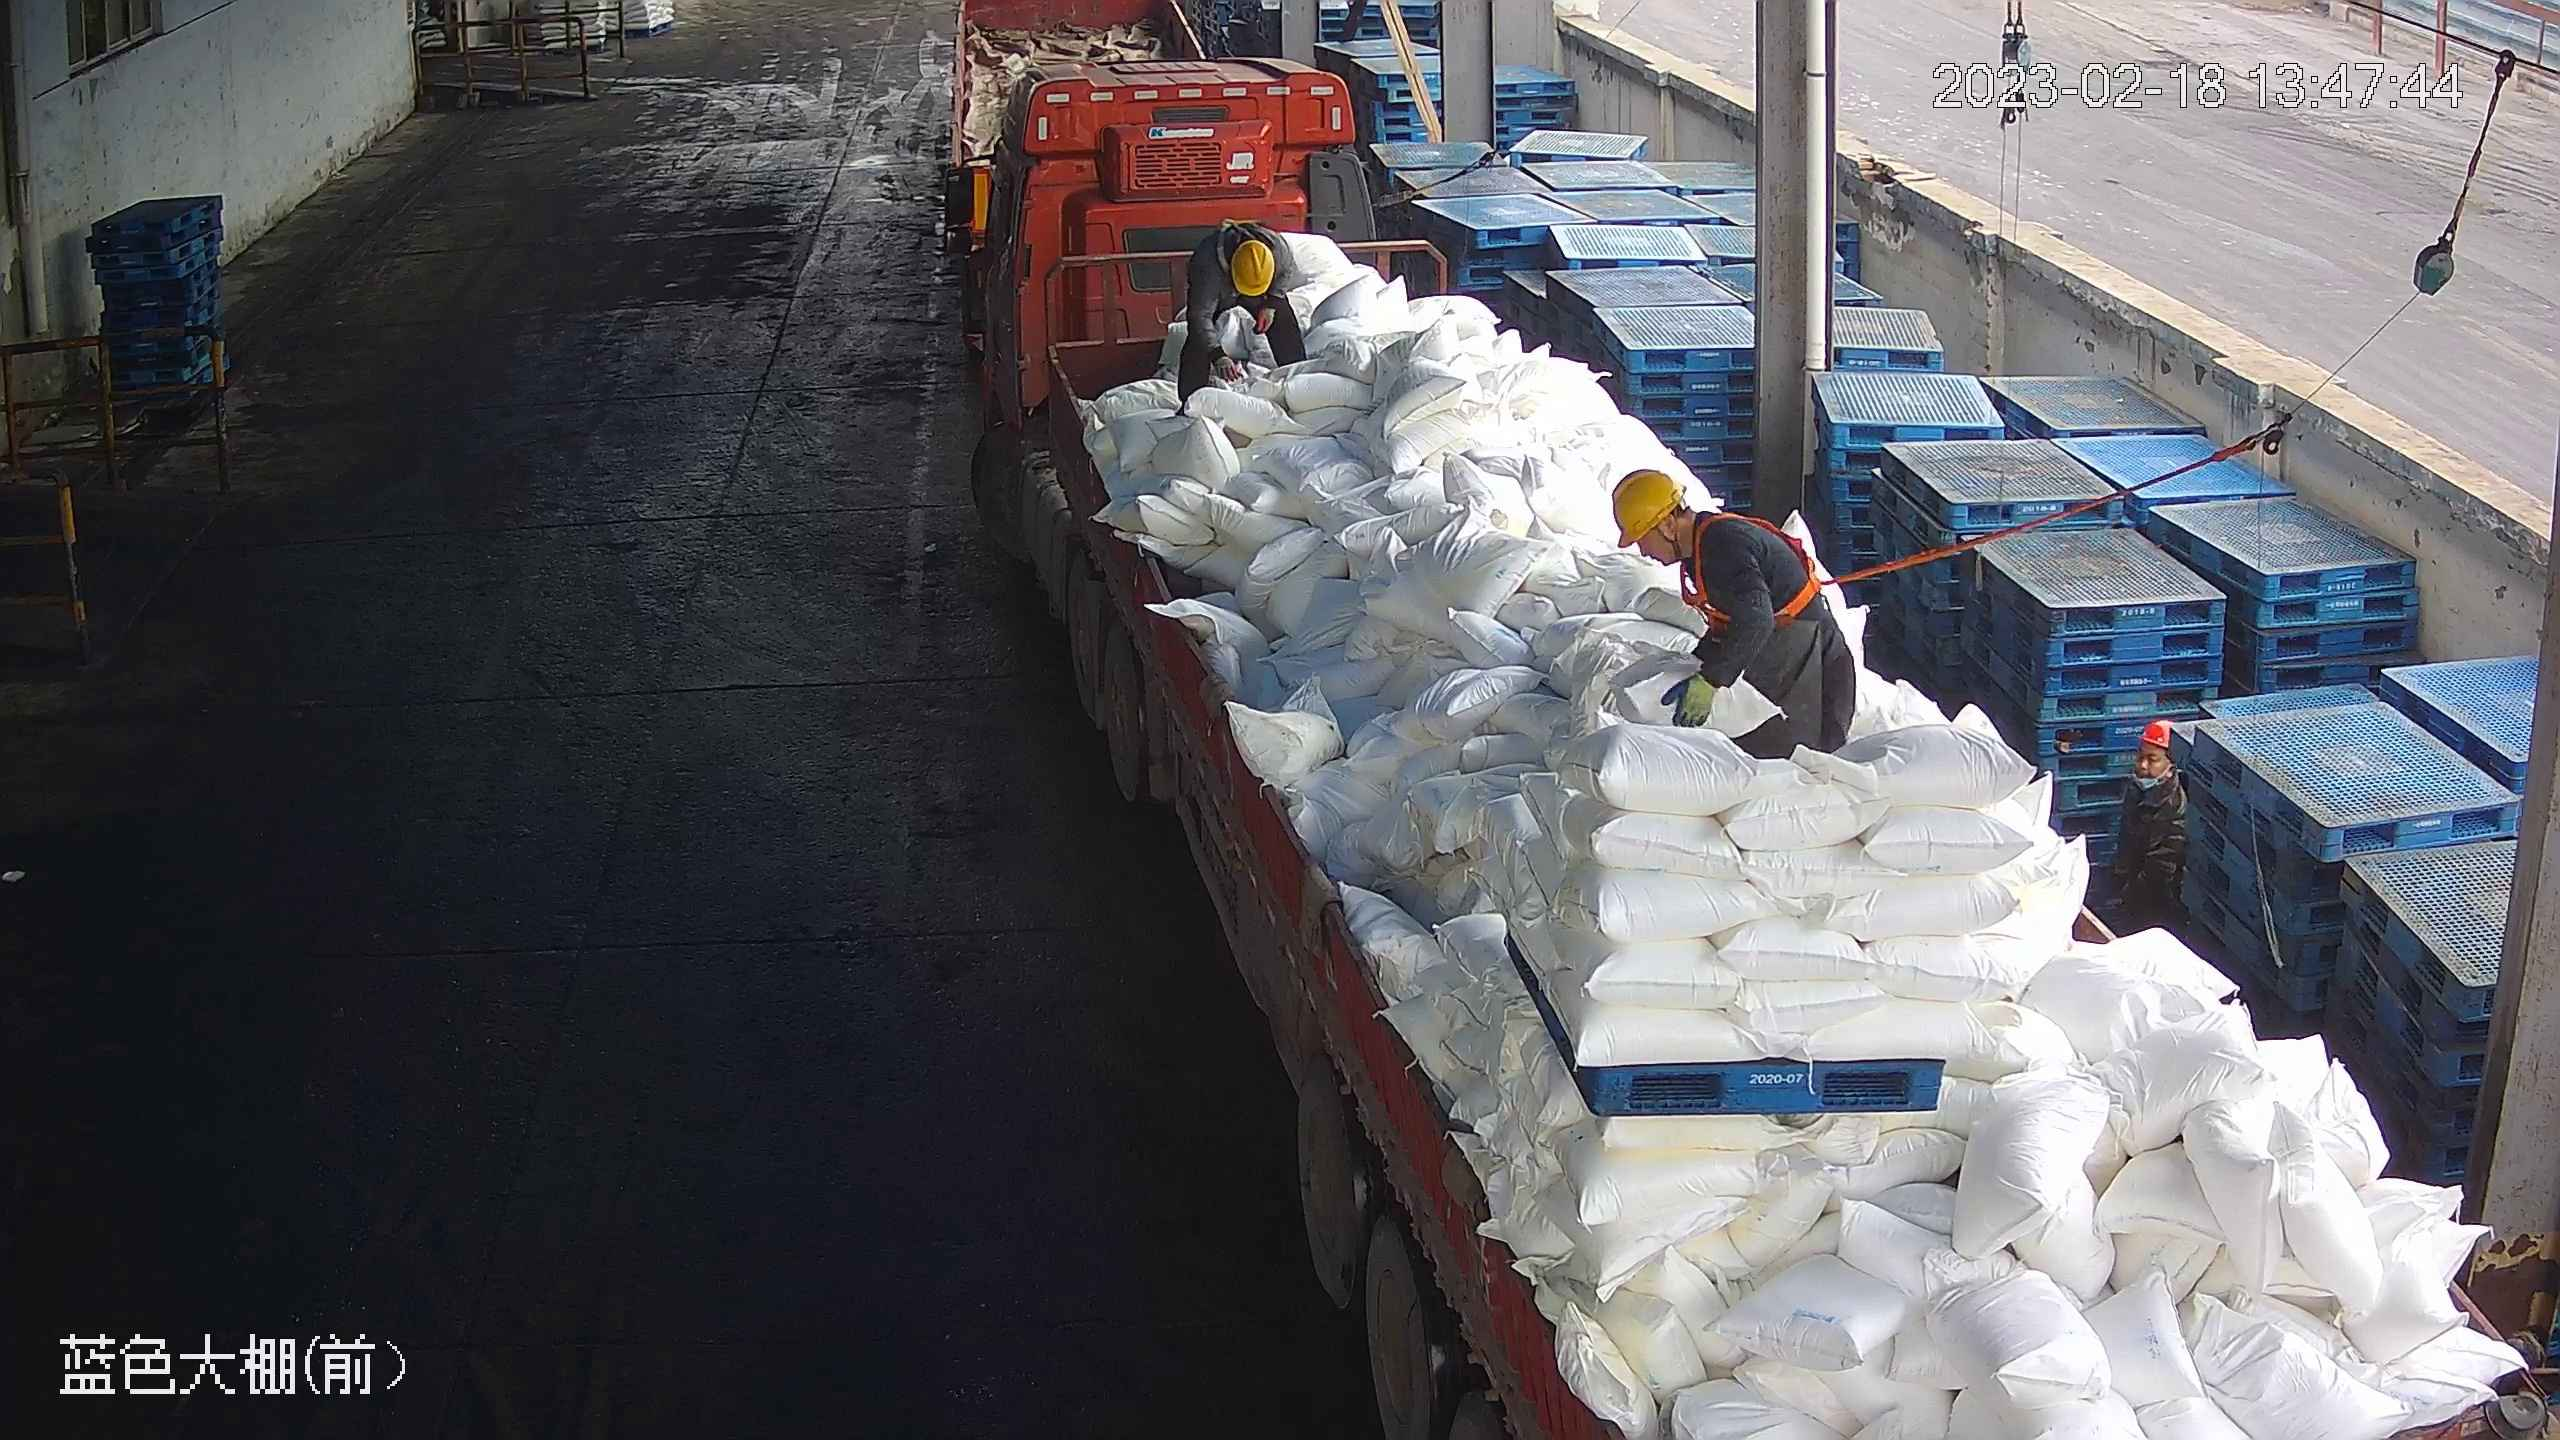belt: (1675, 505, 1846, 638), (1213, 207, 1279, 276)
head: (1607, 467, 1767, 606), (1192, 227, 1296, 320), (2116, 715, 2187, 826)
helmet: (1610, 468, 1681, 544), (1228, 231, 1283, 301), (2133, 716, 2175, 754)
people: (1604, 469, 1861, 762), (1168, 226, 1307, 401), (2097, 716, 2193, 951)
truck: (944, 44, 2547, 1440)
